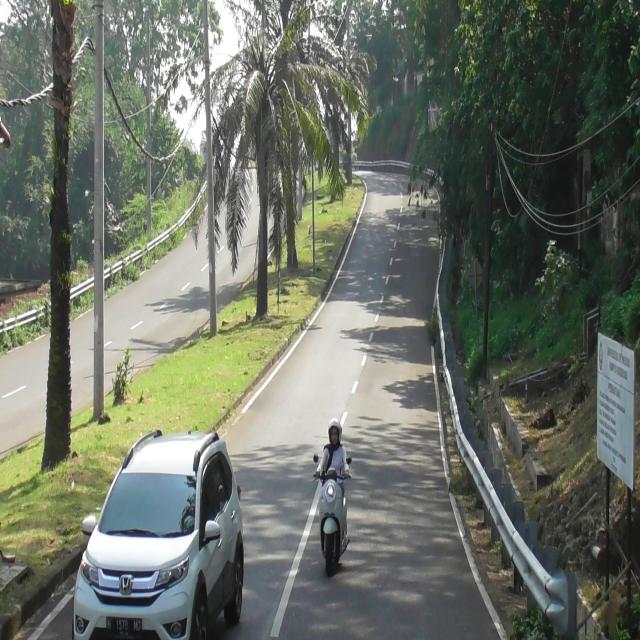motorcycle: (314, 466, 354, 582)
person: (317, 416, 351, 479)
rider_region: (315, 416, 351, 575)
